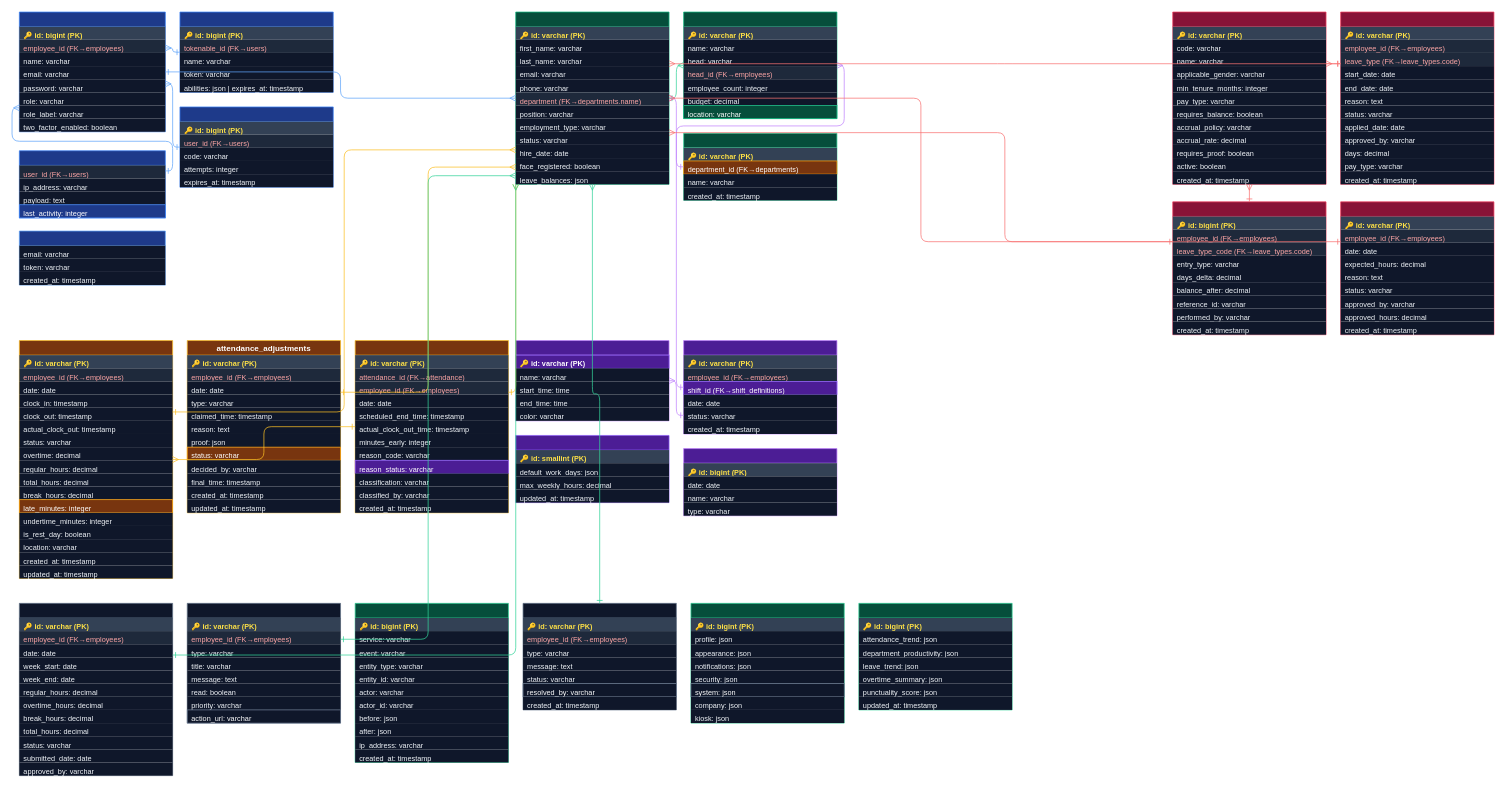
The diagram is 1506 pixels wide and 788 high, and some of its shapes have lost their labels. Here are the shapes that lost their labels. From the top down, the box of each, then its label:
(19, 11, 165, 132): users
(179, 11, 333, 92): personal_access_tokens
(683, 11, 837, 119): departments
(515, 11, 669, 184): employees
(1172, 11, 1326, 184): leave_types
(1340, 11, 1494, 184): leaves
(179, 106, 333, 187): two_factor_challenges
(683, 132, 837, 200): roles
(19, 150, 165, 218): sessions
(19, 230, 165, 285): password_reset_tokens
(1172, 201, 1326, 335): leave_balance_ledger
(1340, 201, 1494, 335): overtime_requests
(515, 340, 669, 421): shift_definitions
(683, 340, 837, 434): shift_schedules
(354, 340, 508, 513): early_clock_outs
(19, 340, 173, 579): attendance
(515, 435, 669, 503): schedule_settings
(683, 448, 837, 516): holidays
(187, 603, 341, 723): notifications
(522, 603, 676, 710): security_events
(690, 603, 844, 723): settings
(858, 603, 1012, 710): analytics
(19, 603, 173, 776): timesheets
(354, 603, 508, 762): audit_events
